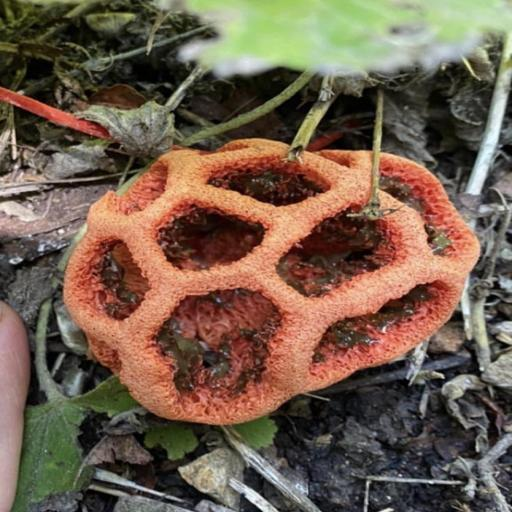Red Cage Fungus: (26, 66, 509, 468)
